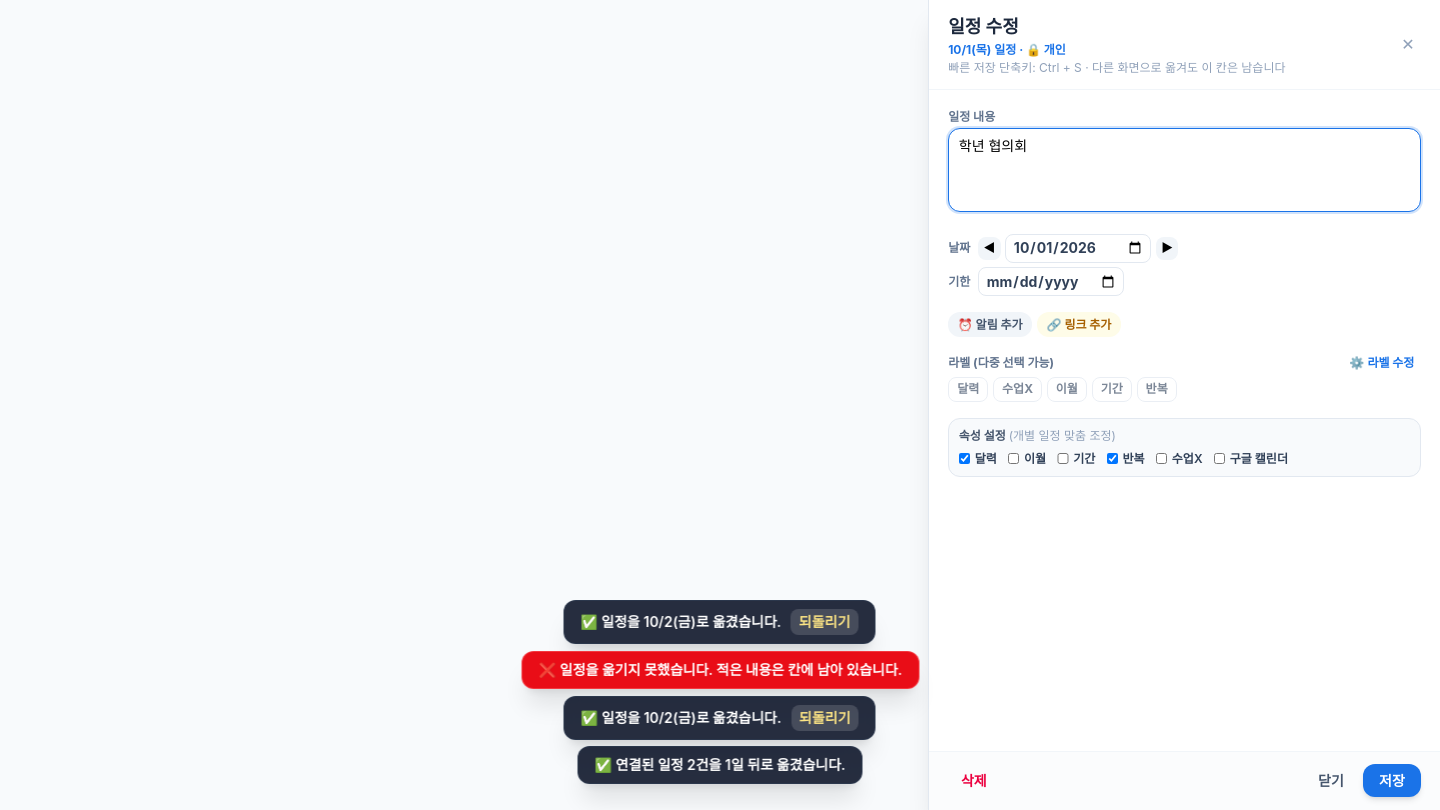
Test: 기간·반복 묶음 옮기기 - 어디까지 옮길지 묻는다 › 창을 닫으면 옮기지 않고, 칸은 고른 날짜를 든 채 남는다
The width and height of the screenshot is (1440, 810).
Type "2026-10-02" into the date field named "일정 날짜". click: (1078, 248)
box: x1=1006 y1=234 x2=1151 y2=263
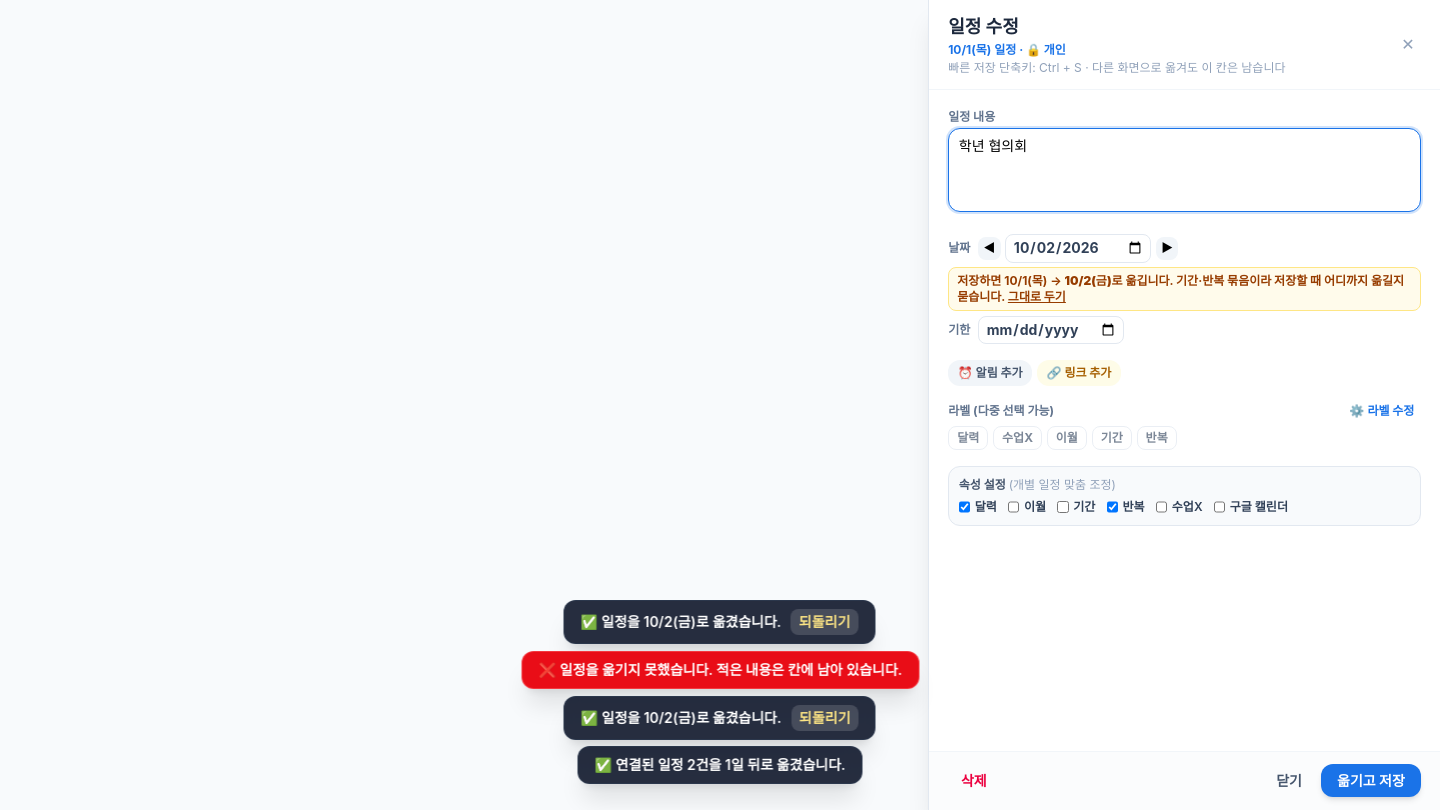
Click the button "옮기고 저장". click: (1371, 781)
box: x1=1321 y1=764 x2=1421 y2=797
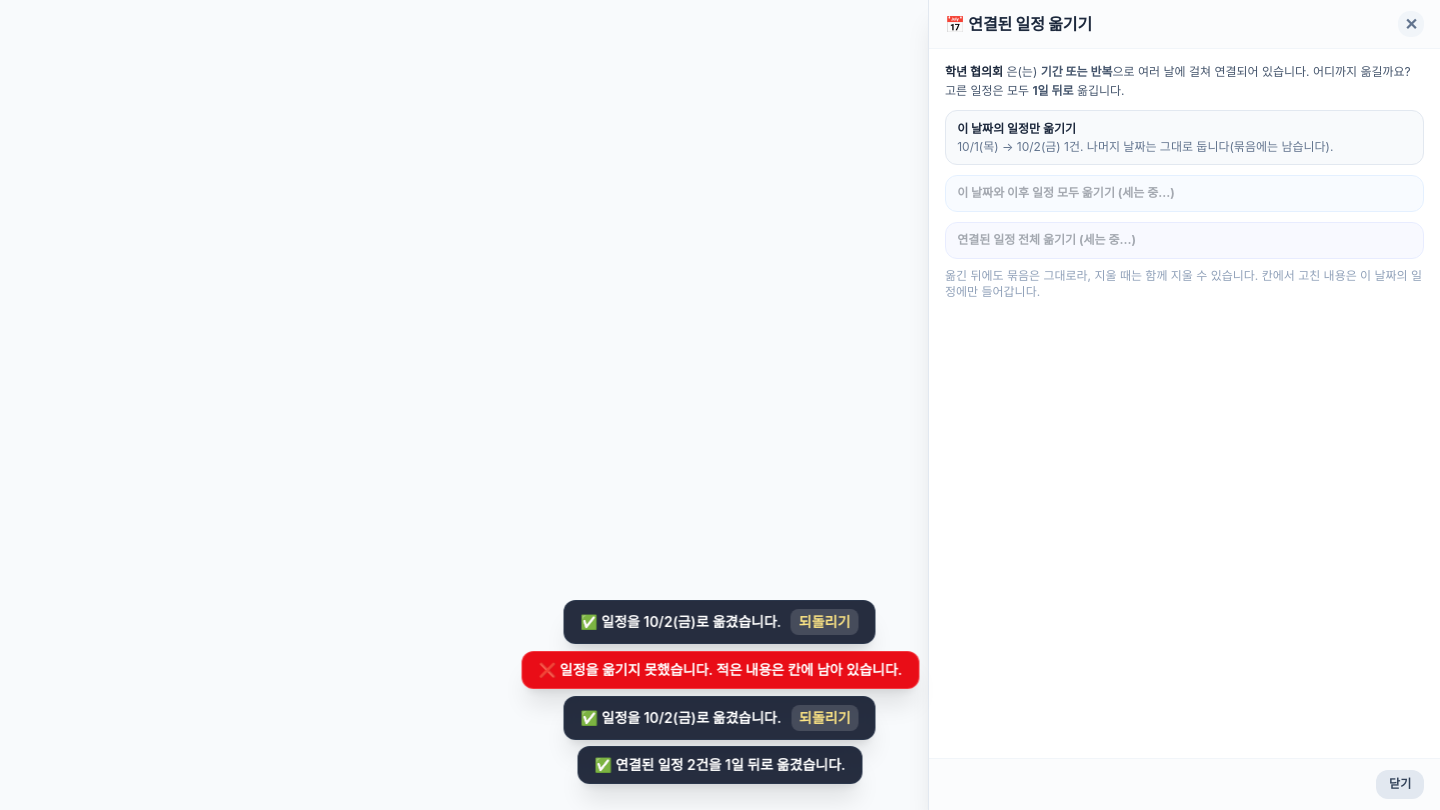
Expected: the button "이 날짜의 일정만 옮기기" is shown, x1=945 y1=110 x2=1424 y2=165
Click the button "닫기". click: (1400, 784)
box: x1=1376 y1=770 x2=1424 y2=799
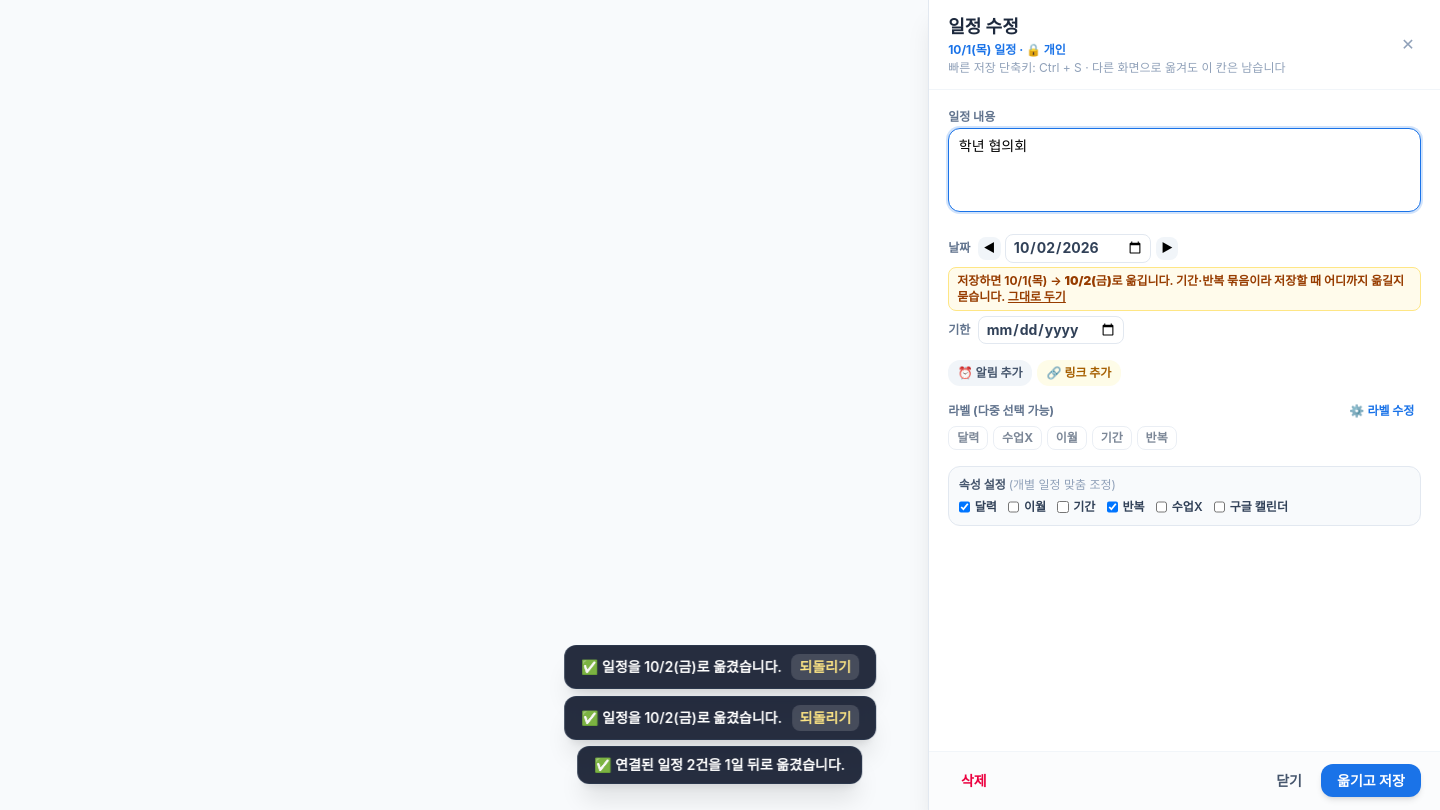
Expected: the button "이 날짜의 일정만 옮기기" is gone
